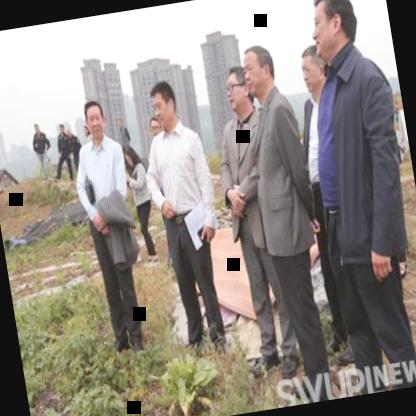head: (302, 0, 363, 62), (239, 38, 280, 100), (292, 42, 330, 97), (145, 76, 182, 132), (220, 62, 254, 112), (79, 94, 110, 144), (121, 145, 142, 171)
